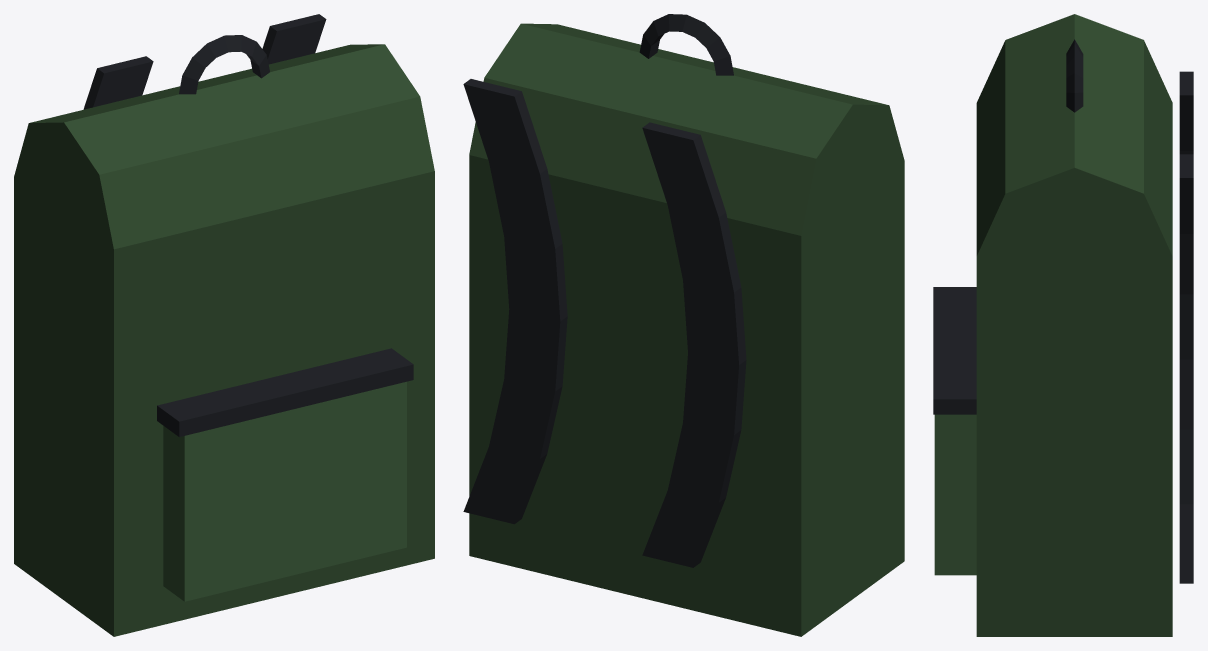
File: bag-rucksack.glb
The picture shows the model from 3 angles, left to right: view 1: azimuth 30°, elevation 25°; view 2: azimuth 150°, elevation 25°; view 3: azimuth 270°, elevation 25°; orthographic projection. The views are drawn at different scales.
Parts seen in each view (by area): view 1: bag_rucksack; view 2: bag_rucksack; view 3: bag_rucksack.
Part boxes in pixels (<box>): bag_rucksack: <box>14,14,434,636</box>; bag_rucksack: <box>463,14,904,636</box>; bag_rucksack: <box>933,14,1193,636</box>.
Bounding box in the file's own units: 0.26 × 0.407 × 0.186.
